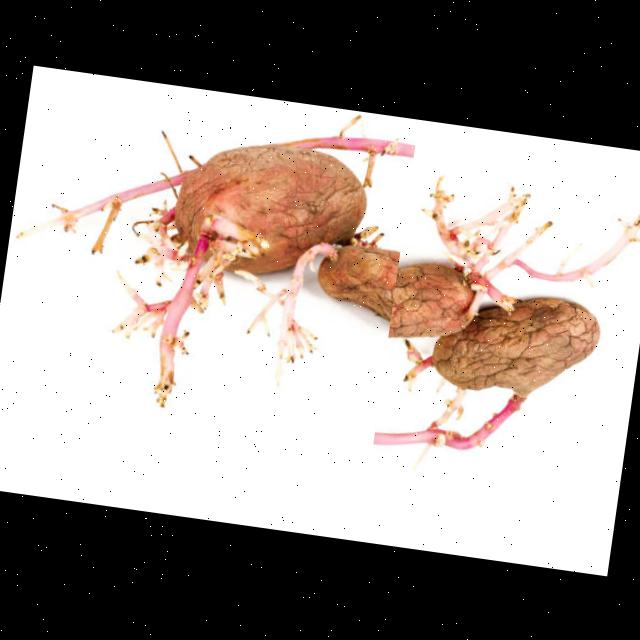Sprouted potato: (0, 67, 417, 467), (370, 245, 618, 484), (269, 156, 524, 372)
